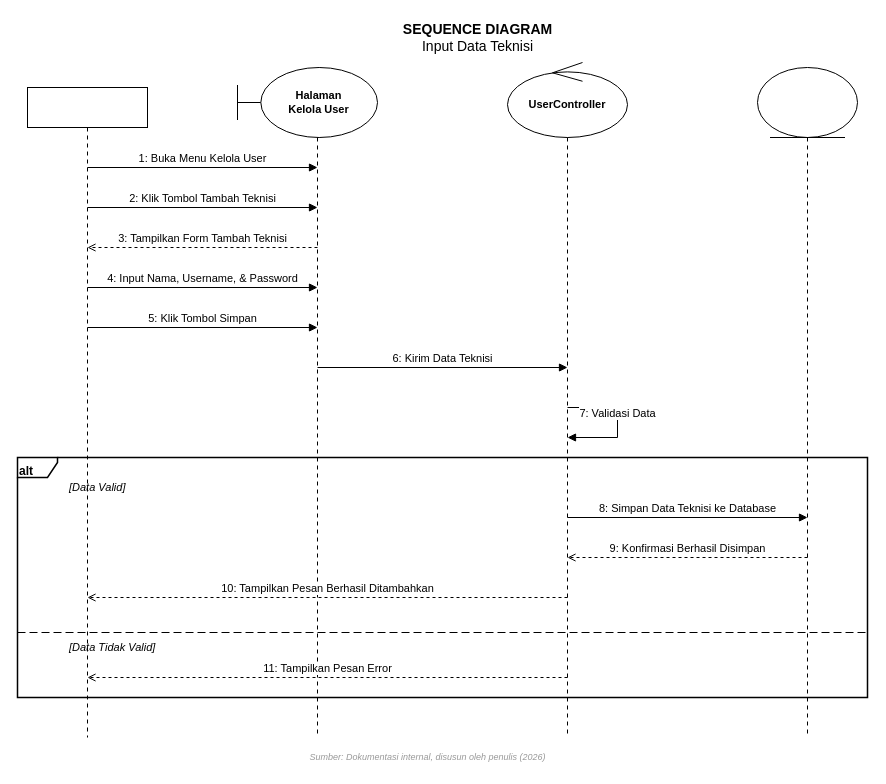
Some shapes in this 886 by 784 pixel diagram are drawn without their labels. The centre of each missing label's shape, as x and y in pixels:
"Admin" belongs at pixel 87 107.
"Database" belongs at pixel 807 102.
